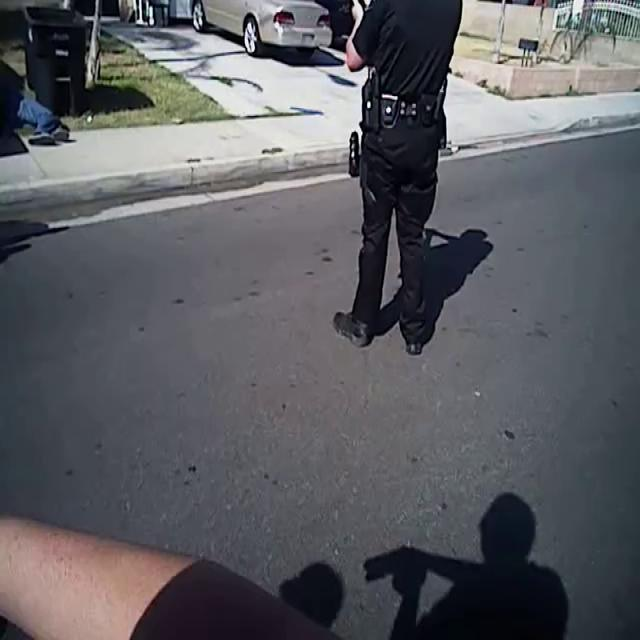gun: (326, 0, 376, 38)
